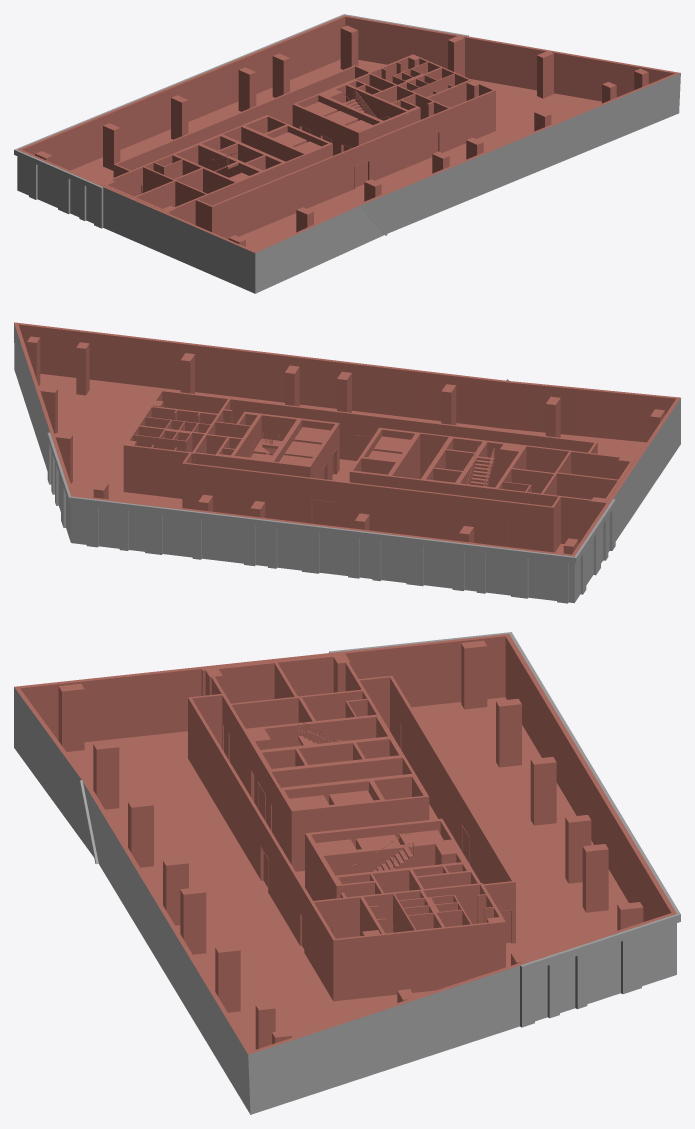
The model's file is JLL_Ruya_Region3DModels_Riyadh_Derived_HeroBuildings_Building 305_Floors_KSA_04_04105_B29_Floor_T1_13.fbx.
3 renders of one model, top to bottom at view 1: azimuth 30°, elevation 25°; view 2: azimuth 150°, elevation 25°; view 3: azimuth 270°, elevation 25°, orthographic. The views are drawn at different scales.
Parts seen in each view (by area): view 1: KSA_04_04105_B29_Floor_T1_13; view 2: KSA_04_04105_B29_Floor_T1_13; view 3: KSA_04_04105_B29_Floor_T1_13.
Boxes of the visible parts, left/top/right/bottom form: KSA_04_04105_B29_Floor_T1_13: left=14, top=14, right=680, bottom=293; KSA_04_04105_B29_Floor_T1_13: left=14, top=322, right=680, bottom=603; KSA_04_04105_B29_Floor_T1_13: left=14, top=632, right=680, bottom=1114.
Size of what is drawn, in the model's own units: 6072 by 509 by 4048.
